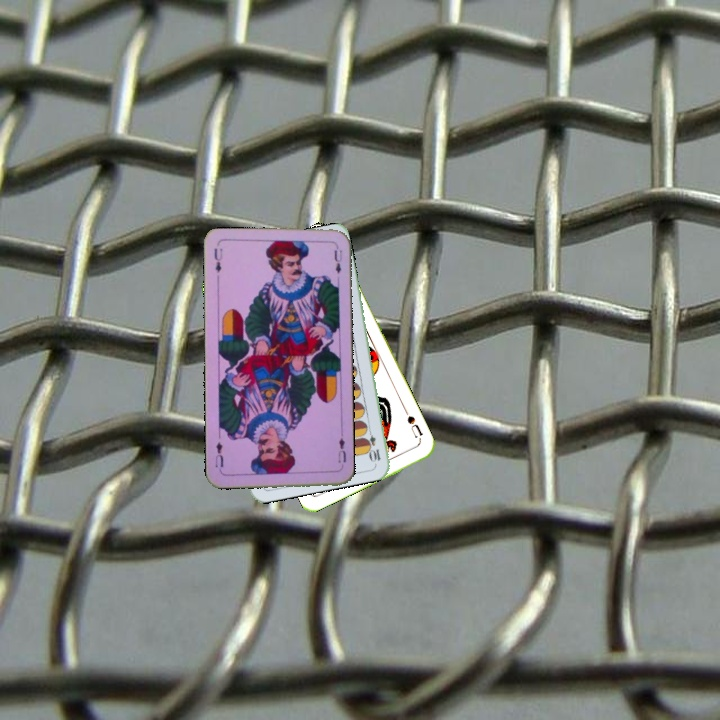E10: (363, 424, 383, 464)
EU: (334, 434, 349, 465), (210, 244, 225, 275)
SU: (403, 412, 425, 445)
